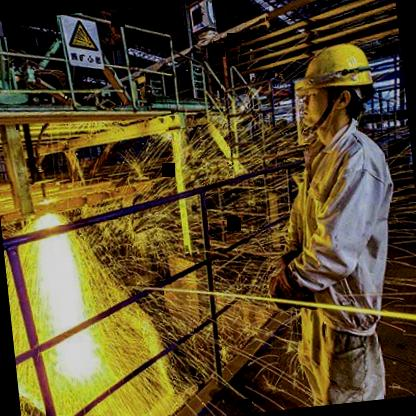helmet: (291, 36, 384, 132)
